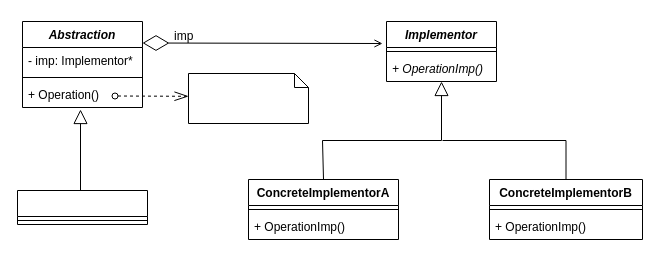
Some shapes in this 660 by 259 pixel diagram are drawn without their labels. Here are the shapes that lost their labels. From the top down, the centre of each, then its label:
point (248, 98): imp->OperationImp()
point (82, 207): RefinedAbstraction
